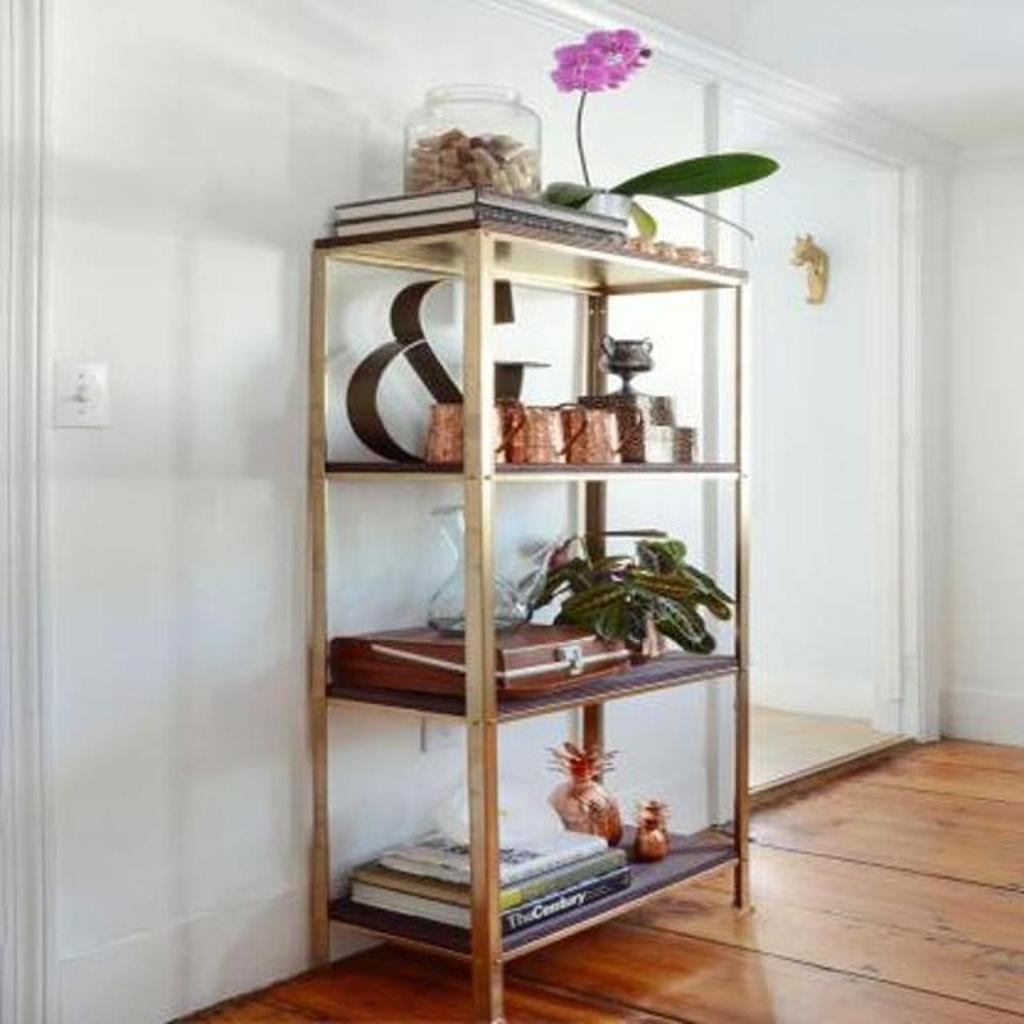lamp: (299, 223, 757, 1022)
